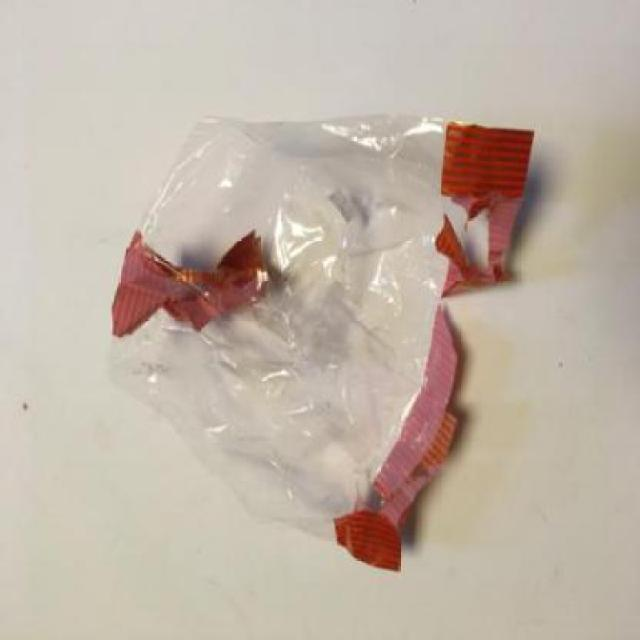PLASTIC: (106, 126, 531, 574)
